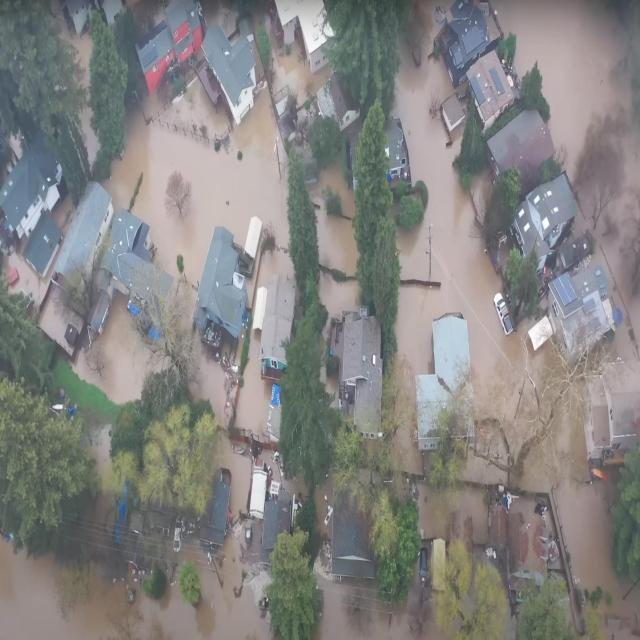flood: (394, 13, 543, 431), (103, 66, 292, 311), (0, 522, 269, 638), (498, 0, 631, 171), (557, 478, 640, 623), (71, 292, 160, 403), (319, 577, 435, 637), (518, 430, 589, 519), (600, 217, 640, 362), (309, 158, 357, 275), (419, 485, 489, 545), (235, 329, 271, 434), (272, 38, 321, 99), (193, 343, 229, 425), (217, 433, 250, 518), (319, 271, 360, 315), (70, 29, 91, 95), (80, 101, 98, 166), (61, 26, 69, 36)
house: (48, 179, 119, 308), (107, 203, 176, 335), (414, 312, 475, 454), (548, 250, 618, 364), (511, 173, 584, 276), (486, 104, 556, 210), (0, 137, 65, 244), (199, 223, 251, 351), (334, 311, 385, 441), (199, 28, 260, 129), (584, 368, 640, 475), (134, 2, 201, 90), (434, 2, 496, 87), (274, 0, 338, 77), (328, 486, 376, 582), (464, 49, 516, 130), (261, 268, 291, 372), (22, 208, 62, 280), (386, 114, 409, 181), (64, 0, 95, 42)
